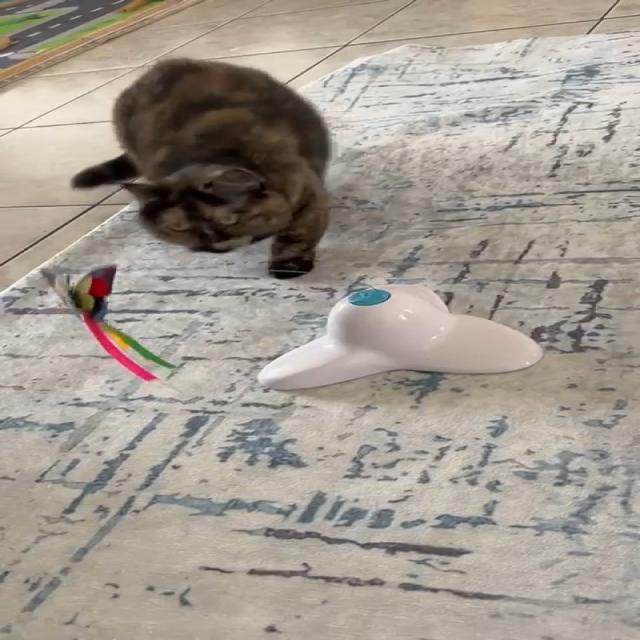authorized: (70, 56, 333, 279)
